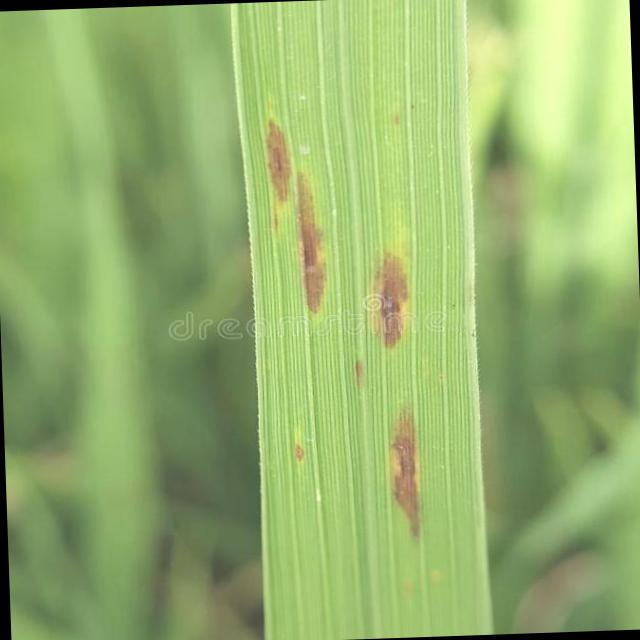Rice_Brownspot: (381, 392, 444, 552), (356, 234, 428, 356), (287, 167, 335, 321), (258, 110, 306, 213), (282, 420, 320, 472)
